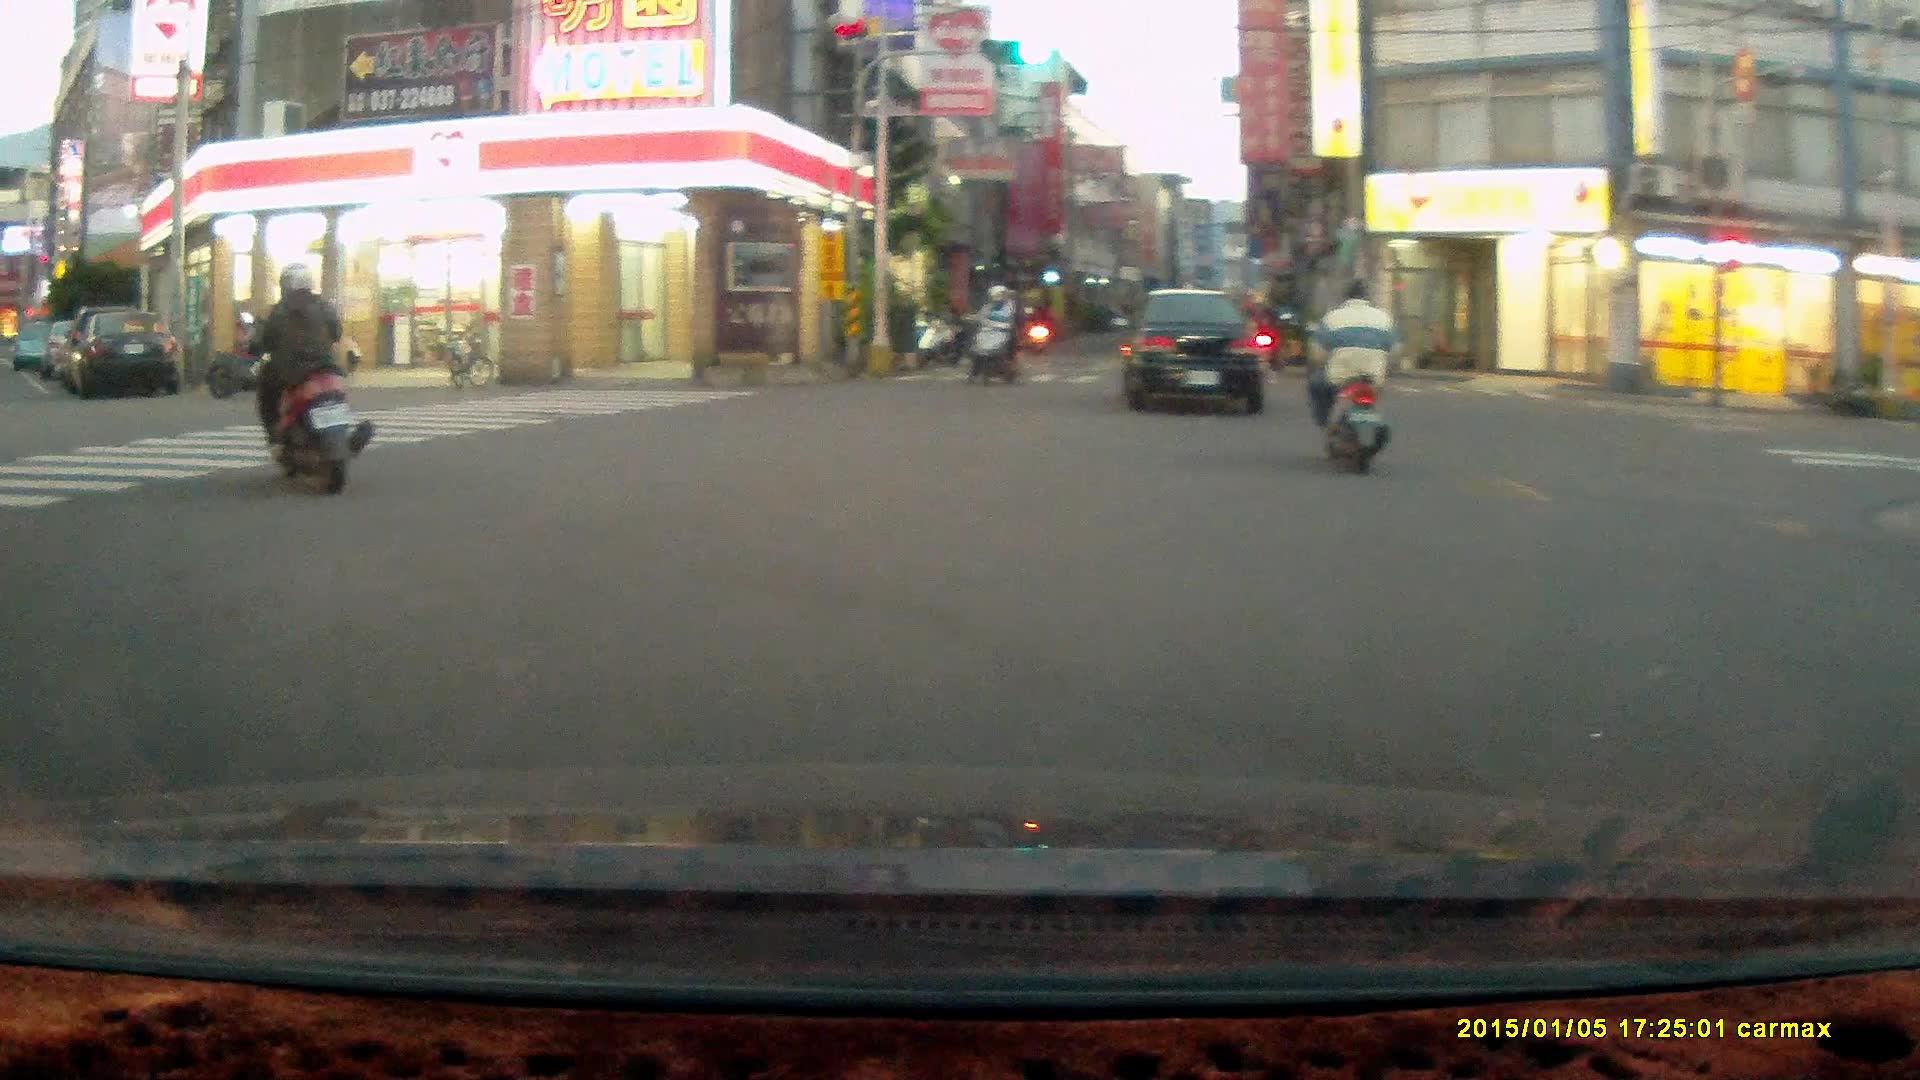rider: (233, 263, 372, 496), (1303, 276, 1393, 475), (965, 282, 1024, 387)
vehicle: (1121, 284, 1270, 419), (75, 308, 189, 395)
